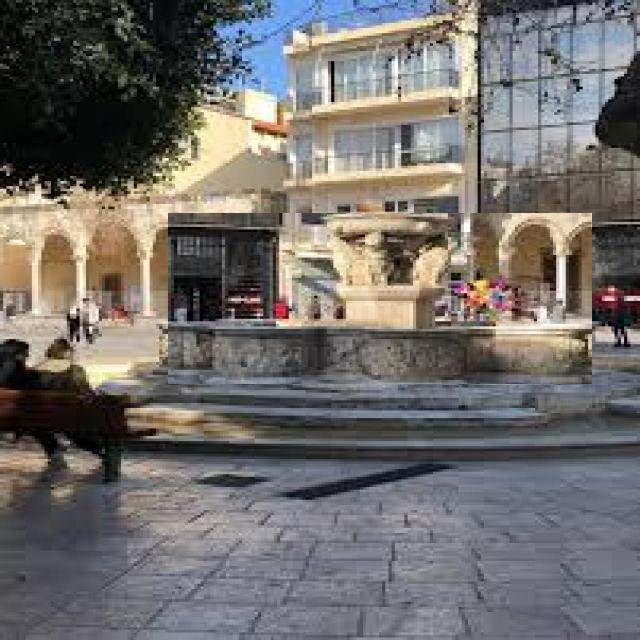Liontaria: (170, 214, 594, 385)
